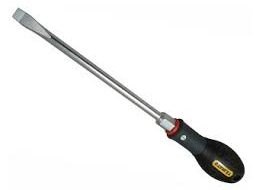Screwdriver: (8, 5, 251, 185)
